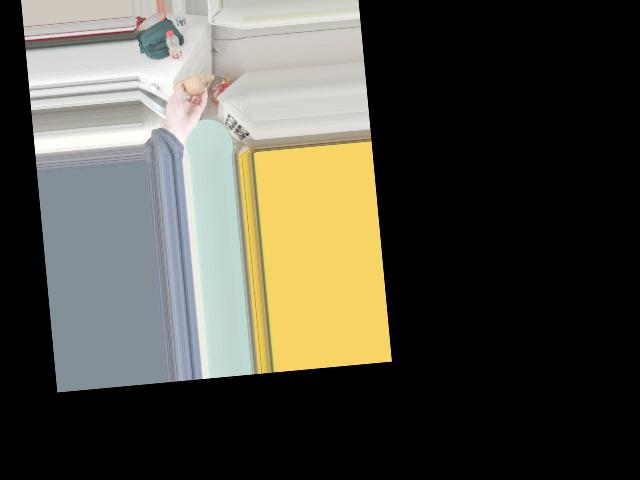sweet_potato: (174, 74, 207, 95)
